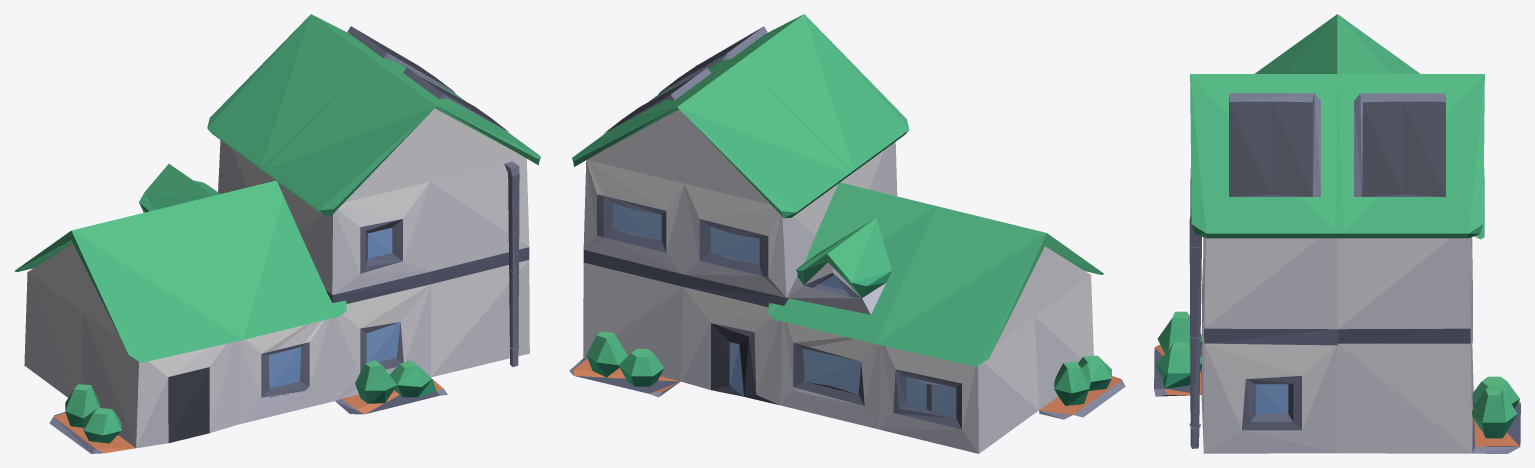
File: building-type-b_vita.obj
3 renders of one model, left to right at view 1: azimuth 30°, elevation 25°; view 2: azimuth 150°, elevation 25°; view 3: azimuth 270°, elevation 25°, orthographic. The views are drawn at different scales.
Bounding box in the file's own units: 1.83 × 1.12 × 1.12.
1 material, 1 textured.
